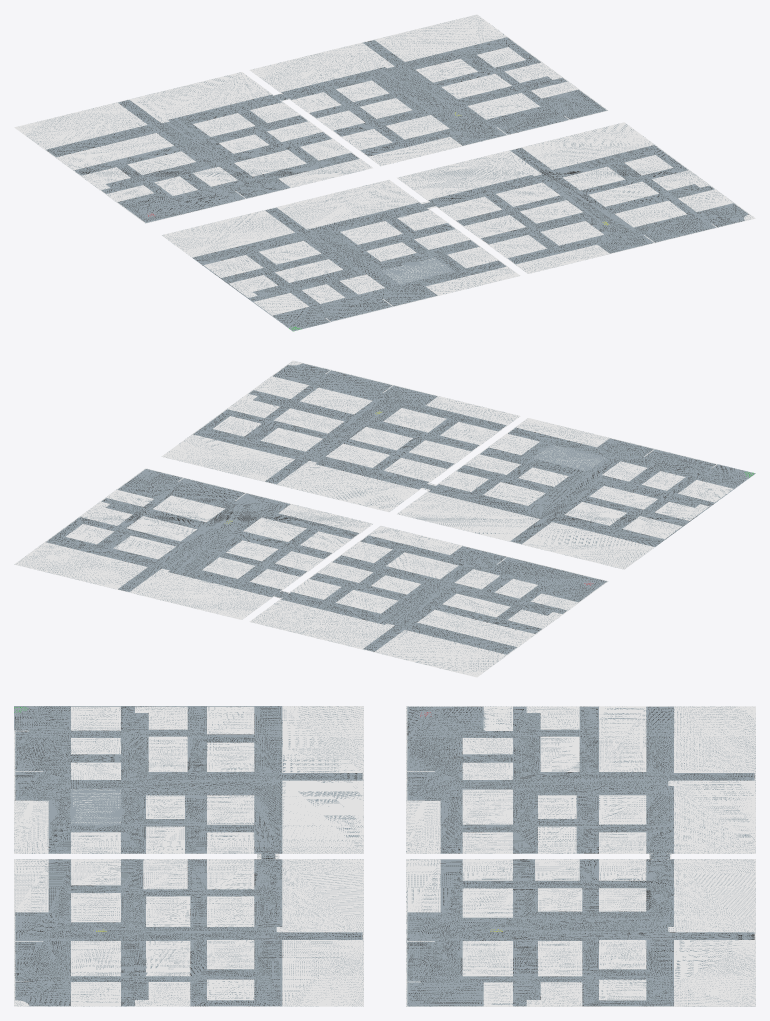
The model's file is Sadness_Minimap.fbx.
3 views of the same model, one above another, from view 1: azimuth 30°, elevation 25°; view 2: azimuth 150°, elevation 25°; view 3: azimuth 270°, elevation 25° (orthographic). The views are drawn at different scales.
Visible parts, largest first — view 1: Model; view 2: Model; view 3: Model.
Part boxes in pixels (x1,y1,x2,y2): Model: (14,14,755,331); Model: (14,360,755,677); Model: (14,706,755,1006).
Bounding box in the file's own units: 256 × 6.13e-14 × 267.
